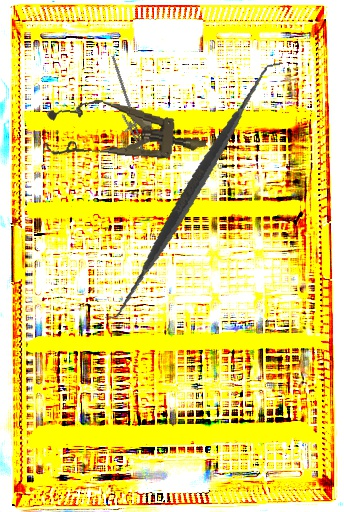Needle Holder: (92, 54, 160, 164)
Spatula Surgical: (69, 60, 318, 320)
Speculum: (42, 93, 210, 176)
